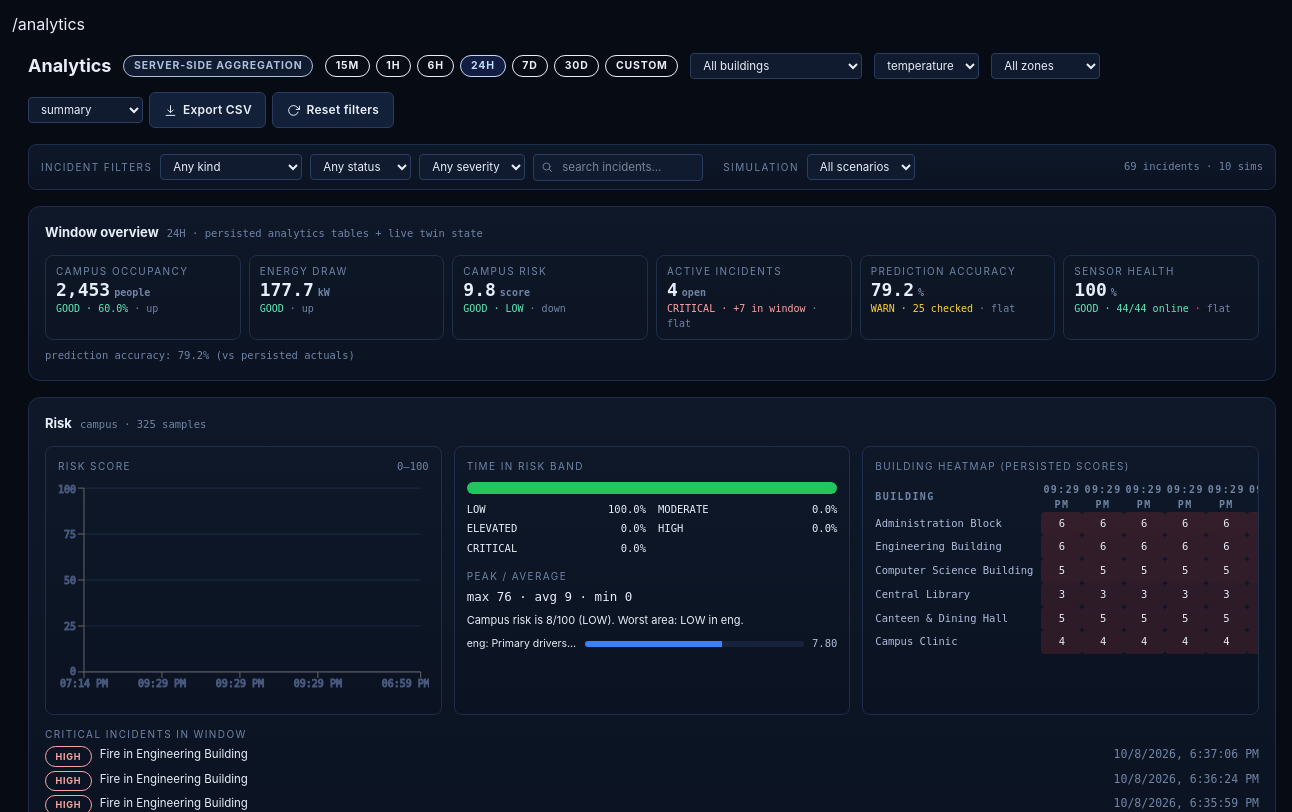
Test: Analytics §62 — URL-persisted filters › scopes risk/occupancy to a building through the URL
Check: the element with test id "section-window-overview" is shown, box [28, 206, 1276, 381]
Select "Computer Science Block" in the dropdown with test id "filter-building" at (776, 66), box [690, 53, 862, 79]
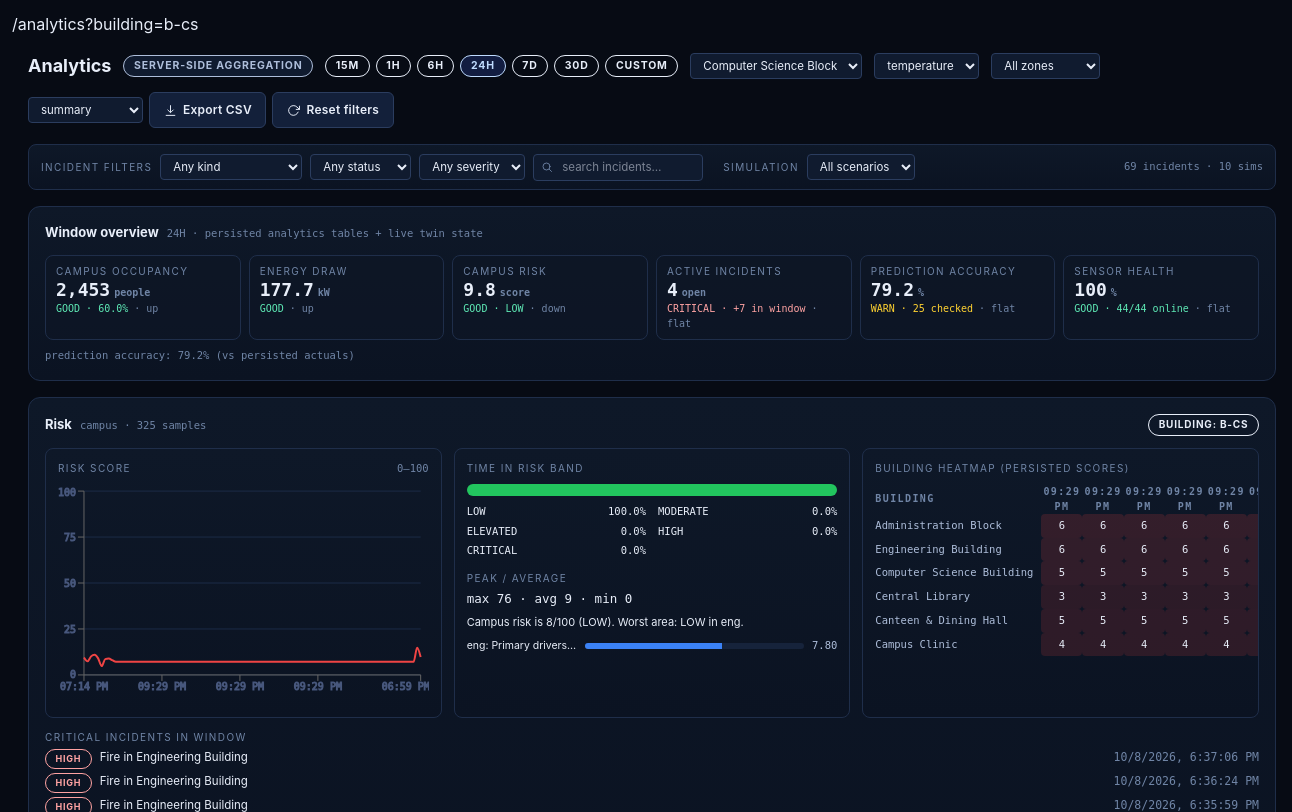
Check: the text with test id "loc" shows "building=b-cs", box [12, 14, 198, 34]
